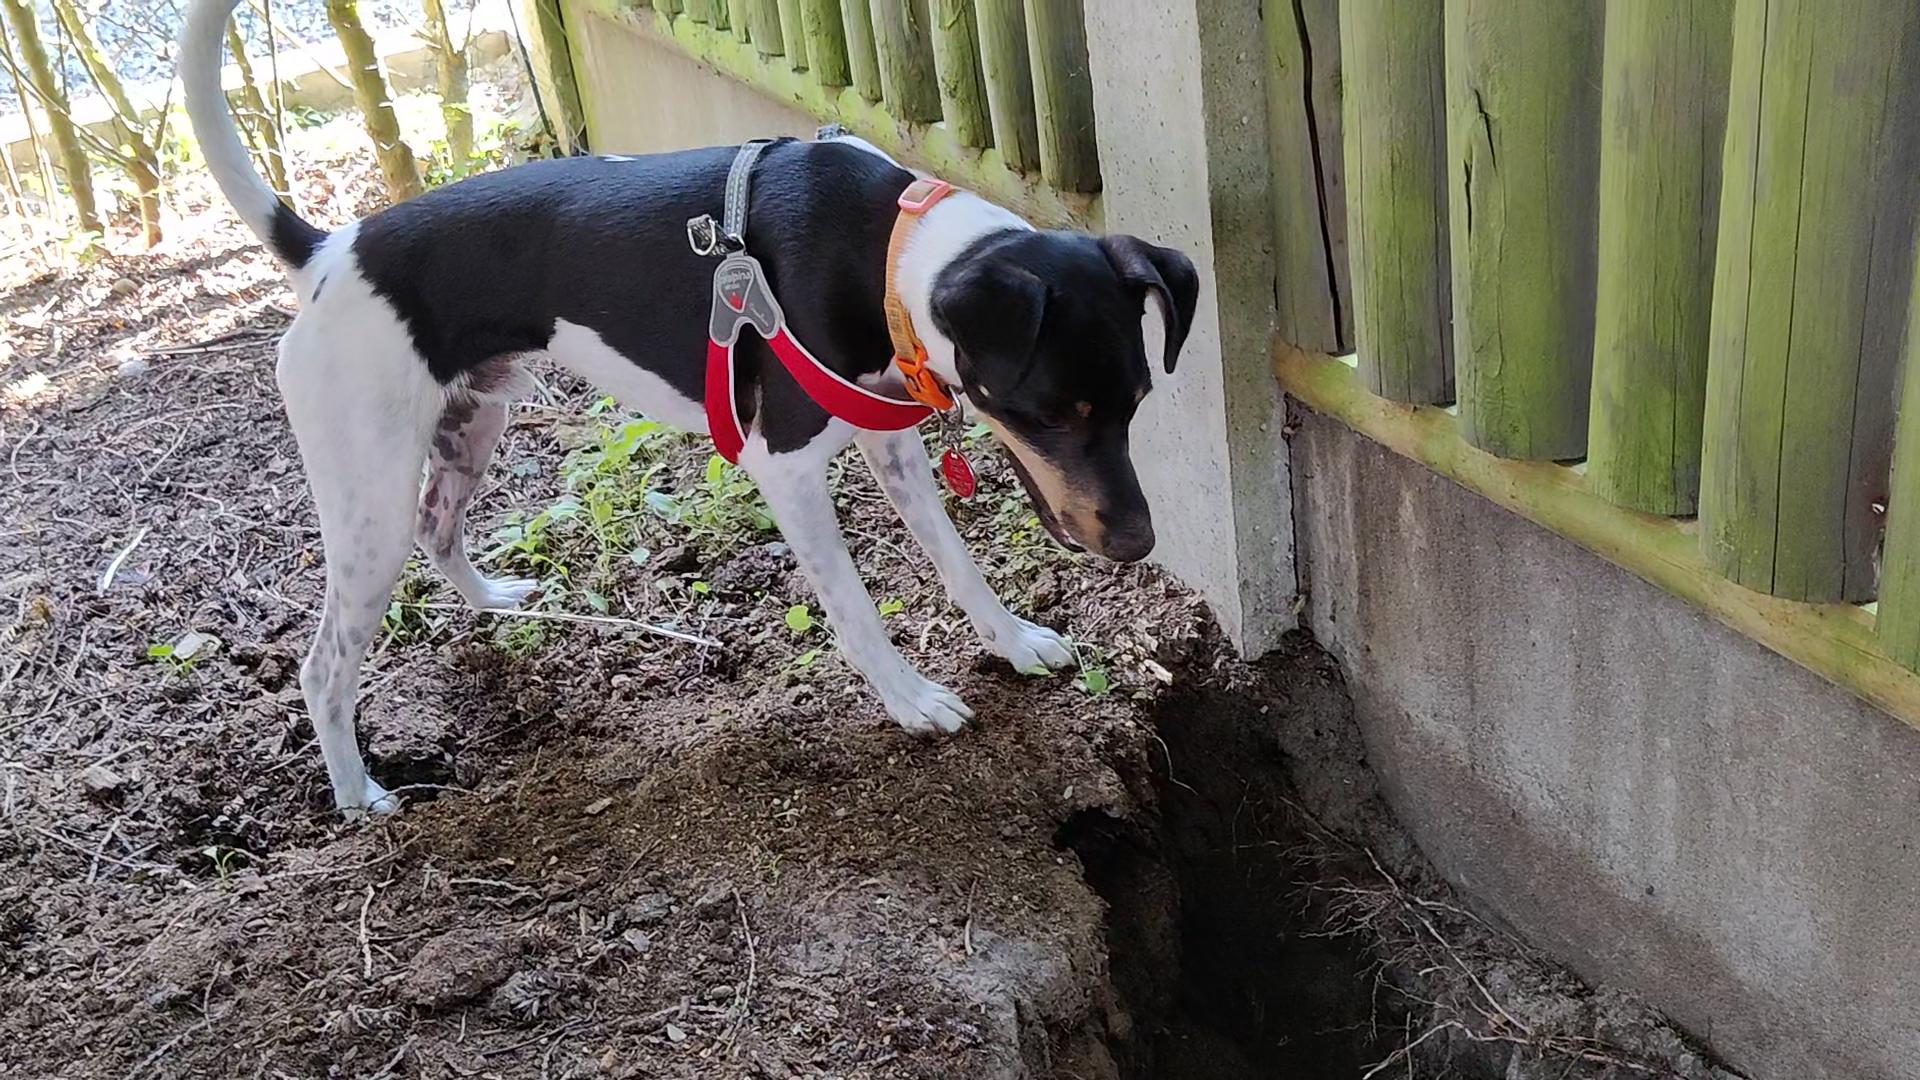Dog: (153, 0, 1234, 827)
